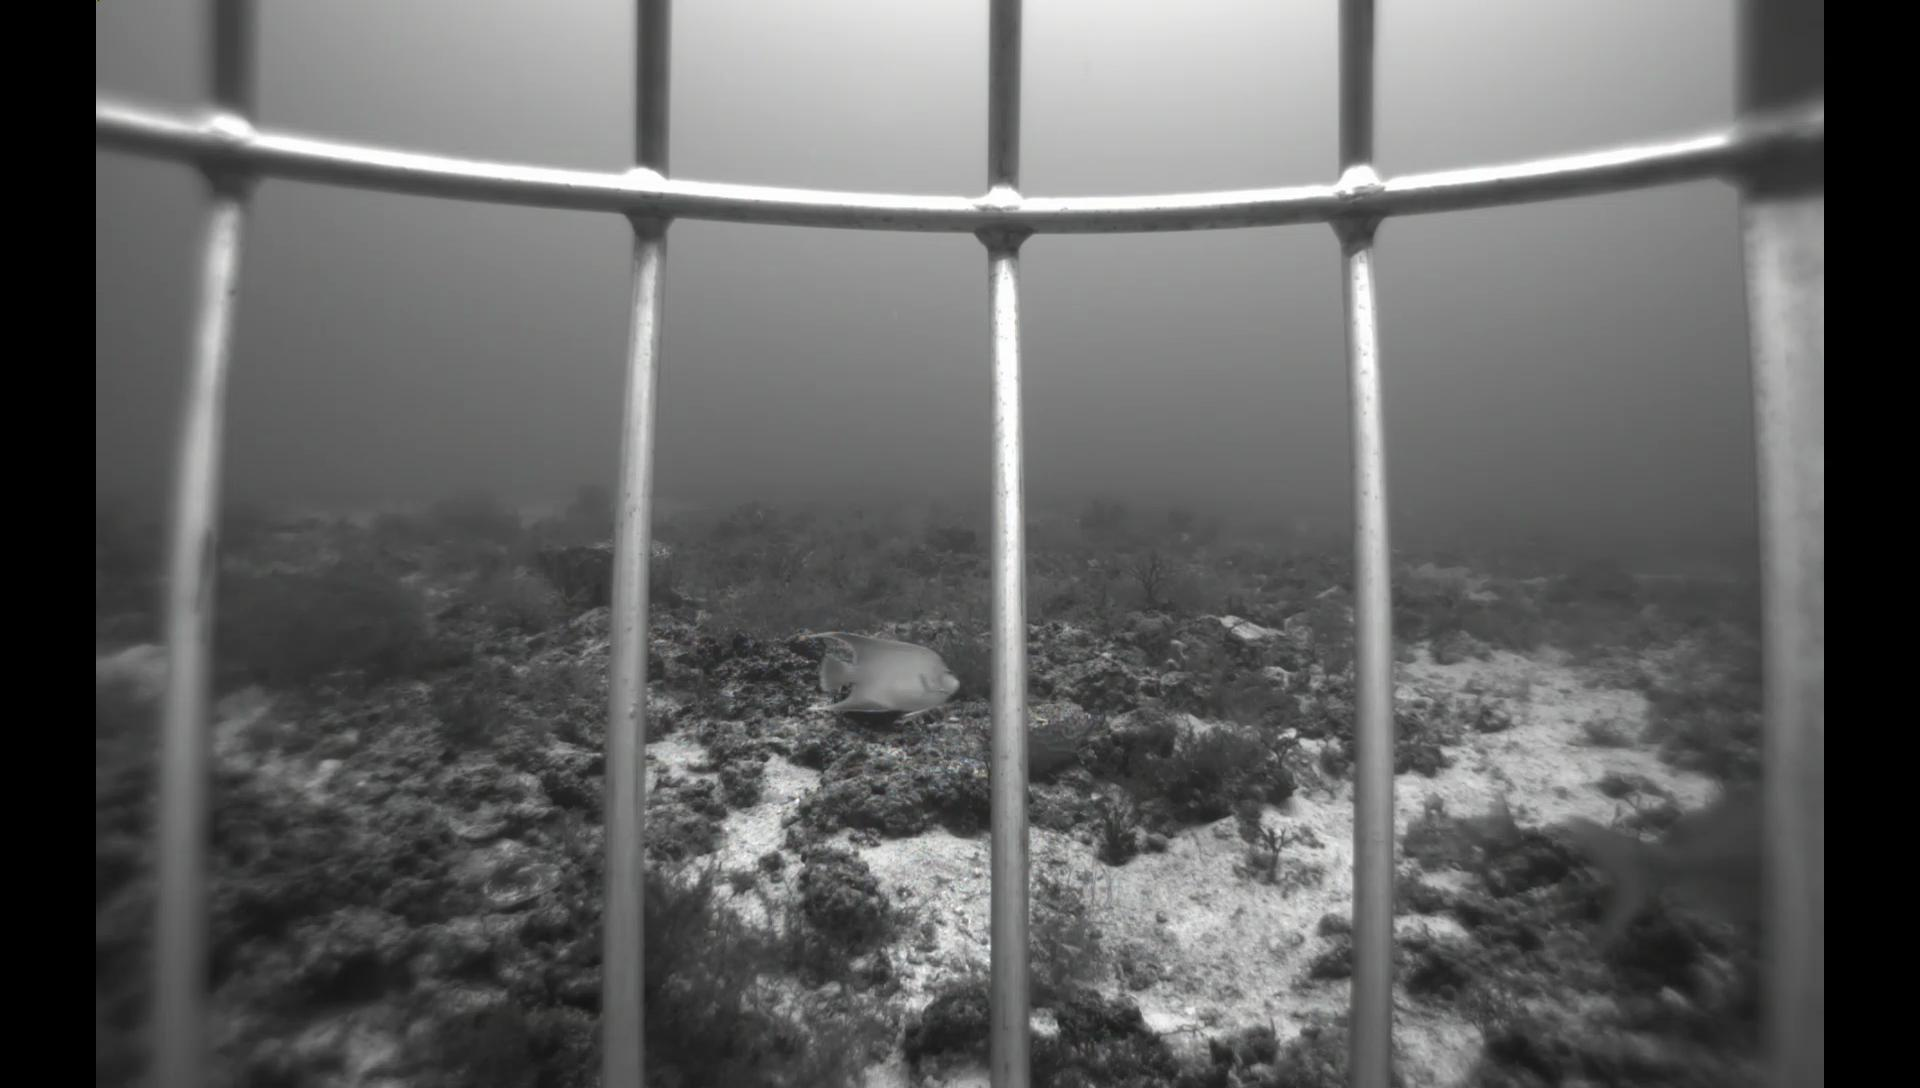CALAMUSNODOSUS-170210608: (1547, 787, 1763, 956)
HOLACANTHUSBERMUDENSIS-170290102: (796, 626, 967, 731)
MYCTEROPERCAPHENAX-170022105: (849, 510, 891, 555)
